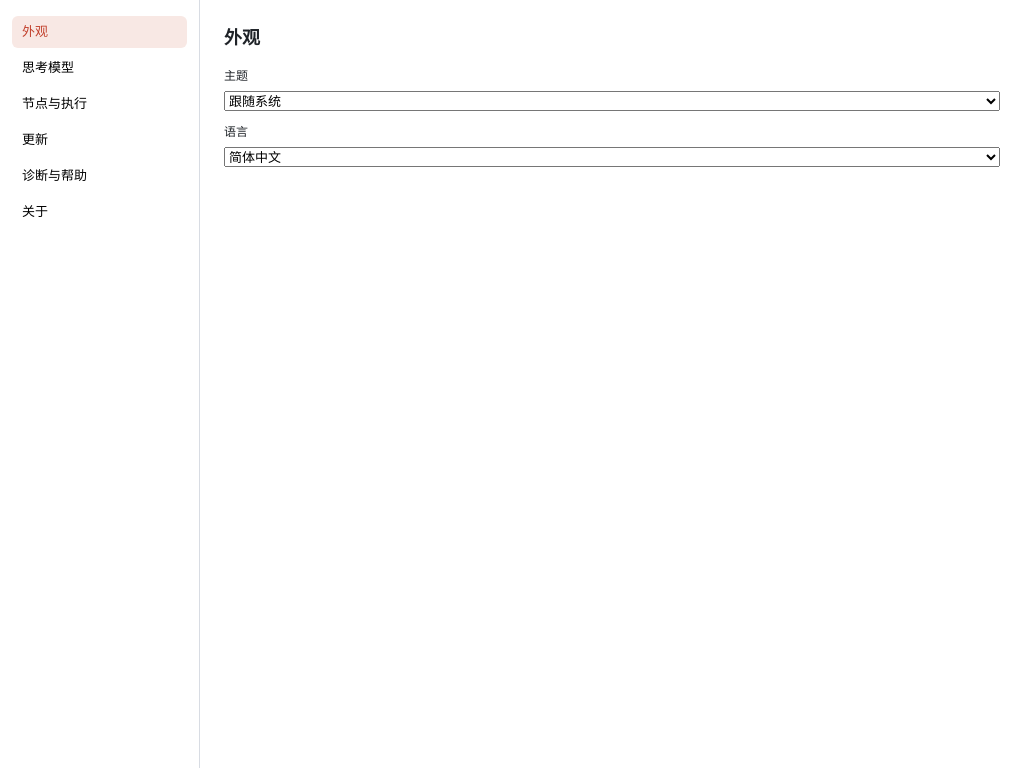
SettingsShell › exposes six settings categories and switches the visible panel
Check: the tab "外观" is shown, box [12,16,187,48]
Check: the tab "思考模型" is shown, box [12,52,187,84]
Click the tab "关于".
click(100, 212)  # box [12,196,187,228]
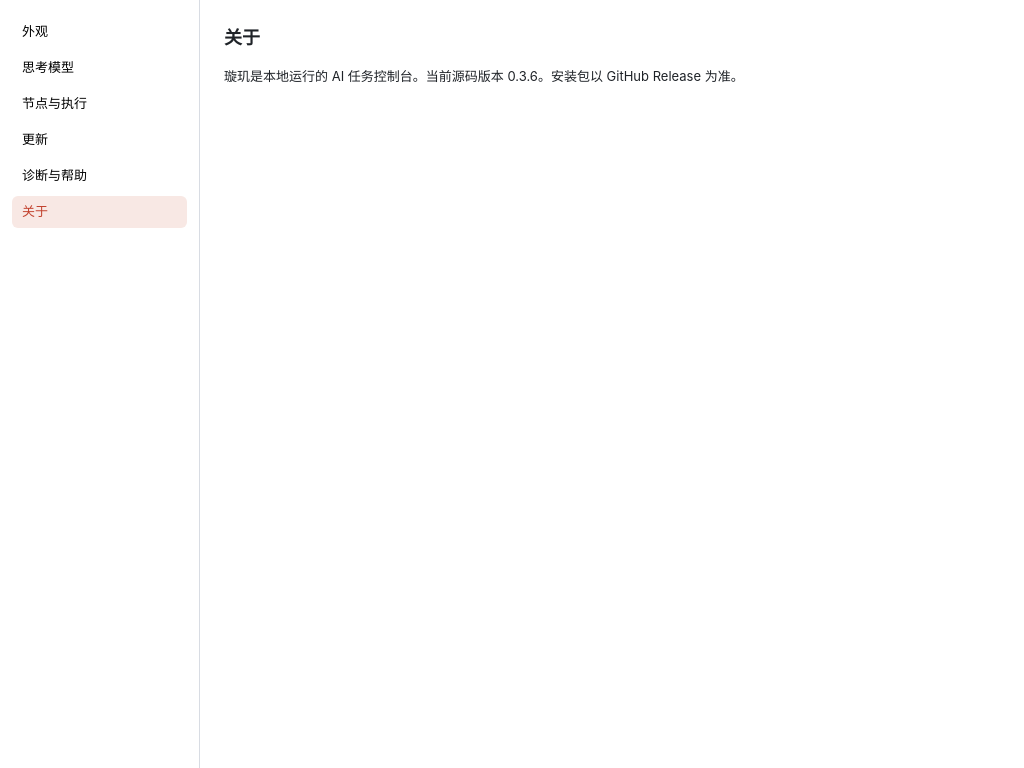
Check: the heading "关于" is shown, box [224,27,260,48]
